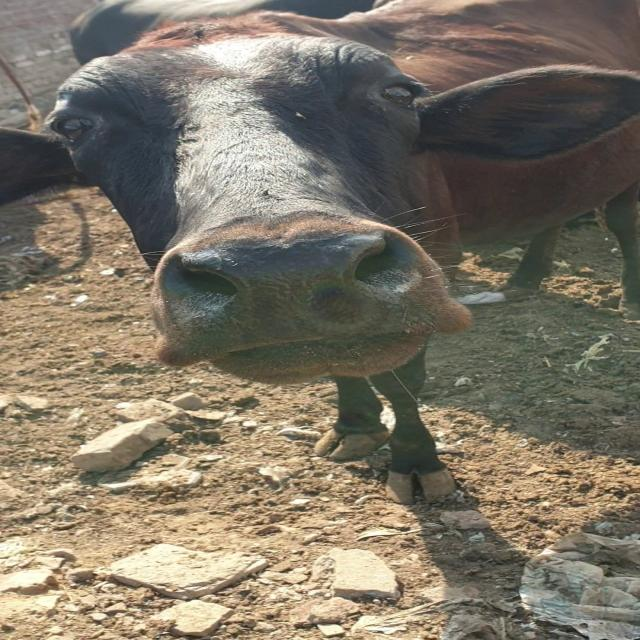cowFace: (32, 17, 436, 406)
